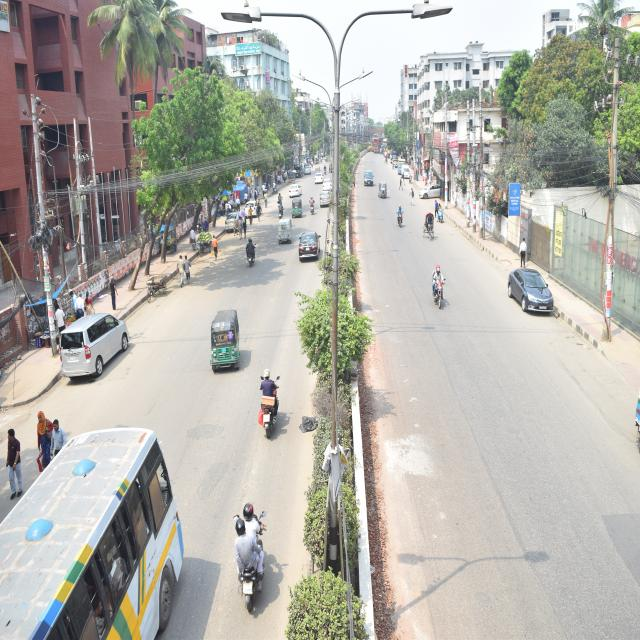bus: (0, 388, 199, 639), (370, 132, 384, 160)
car: (44, 300, 144, 407), (498, 258, 570, 352), (217, 184, 252, 259), (300, 211, 322, 280), (416, 180, 455, 212), (356, 160, 382, 199), (239, 191, 261, 229), (318, 186, 340, 220), (399, 161, 420, 190), (303, 156, 316, 190), (320, 169, 338, 193), (287, 166, 298, 198), (314, 168, 327, 188)
motorbike: (189, 468, 302, 614), (244, 328, 310, 447), (429, 252, 471, 351), (241, 238, 265, 288), (396, 202, 406, 250), (307, 187, 319, 225), (274, 190, 285, 221), (279, 204, 285, 223)
pickup-van: (290, 152, 308, 189)
